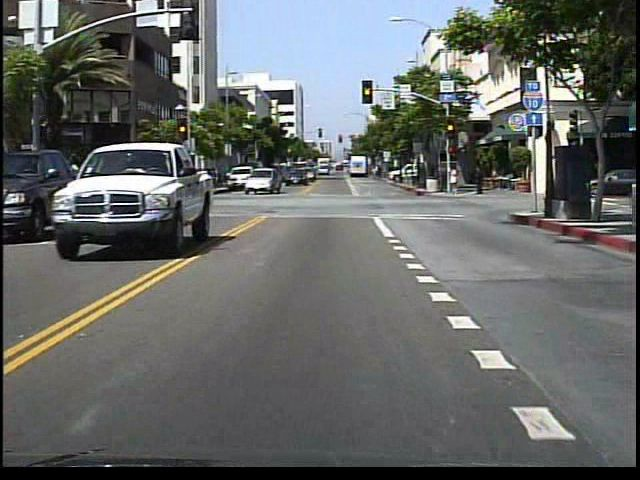person: (472, 164, 486, 198), (449, 163, 461, 197), (171, 168, 184, 197)
